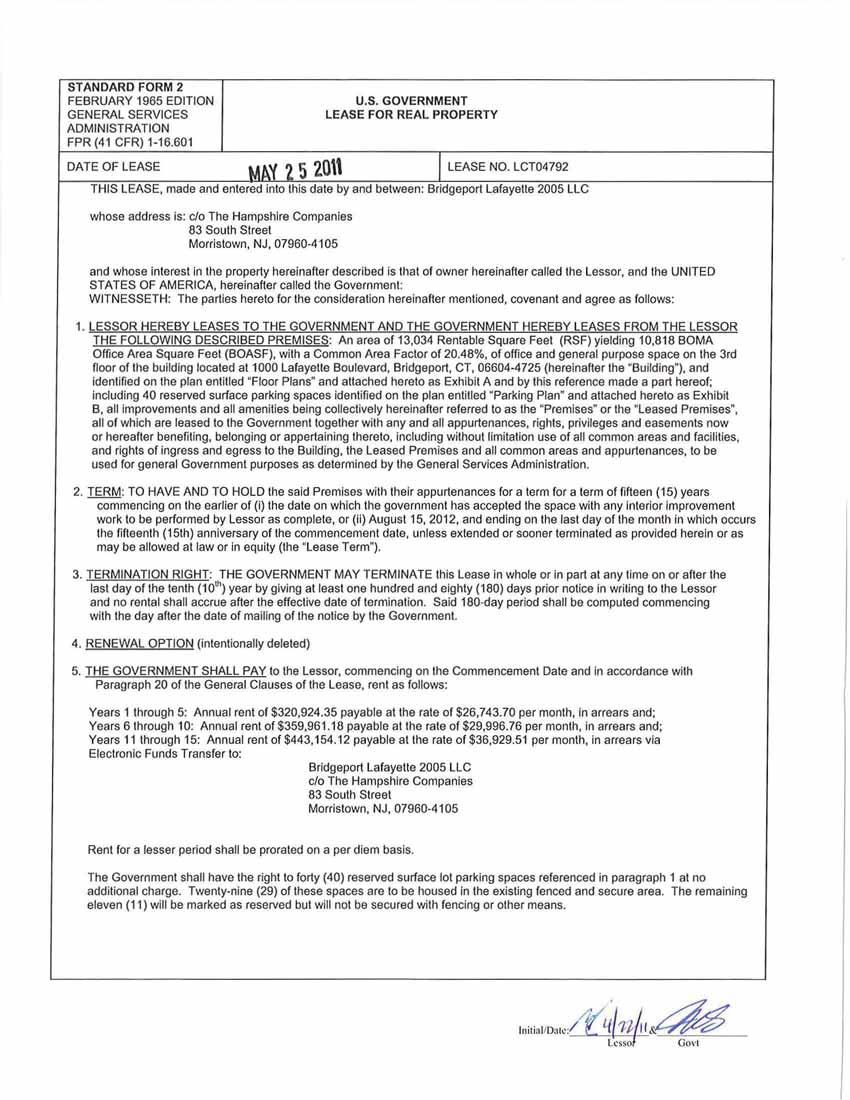handwritten: (569, 988, 747, 1034)
